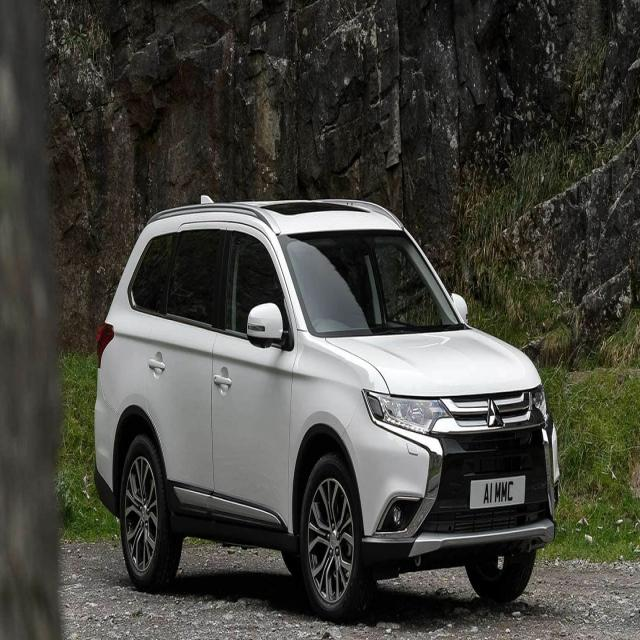light_vehicle: (93, 198, 560, 621)
